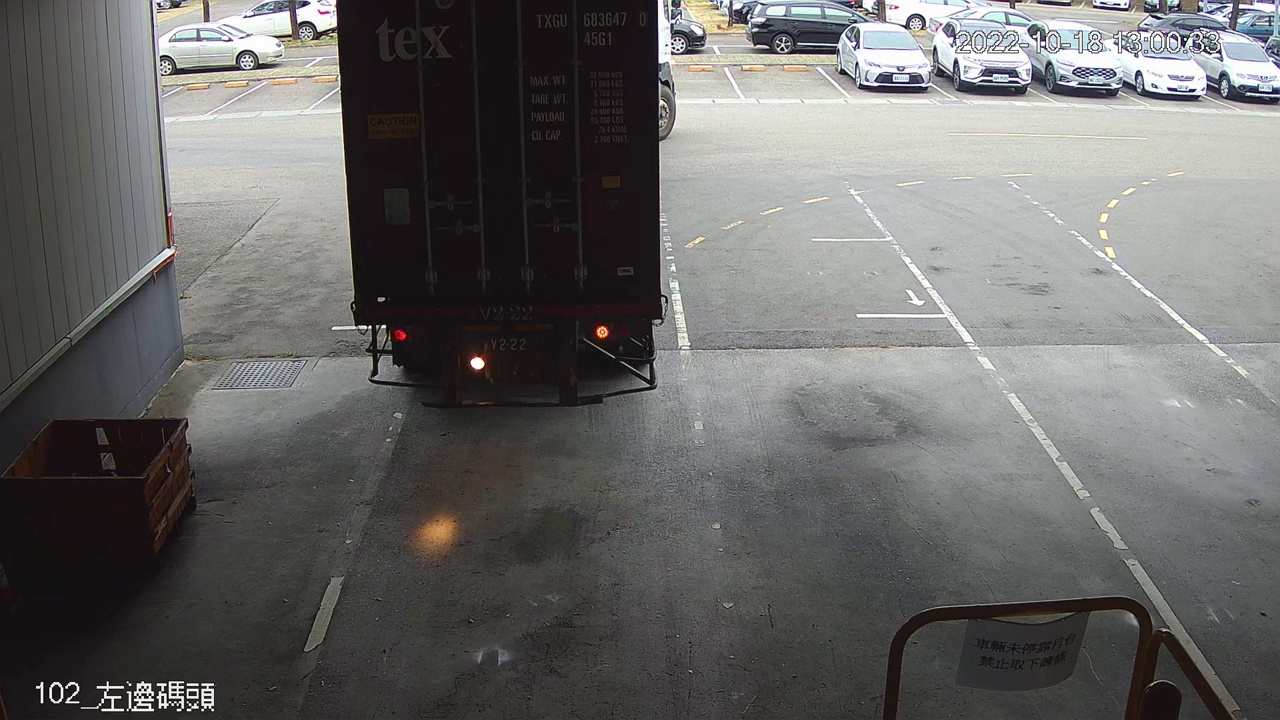container: (530, 7, 652, 53)
